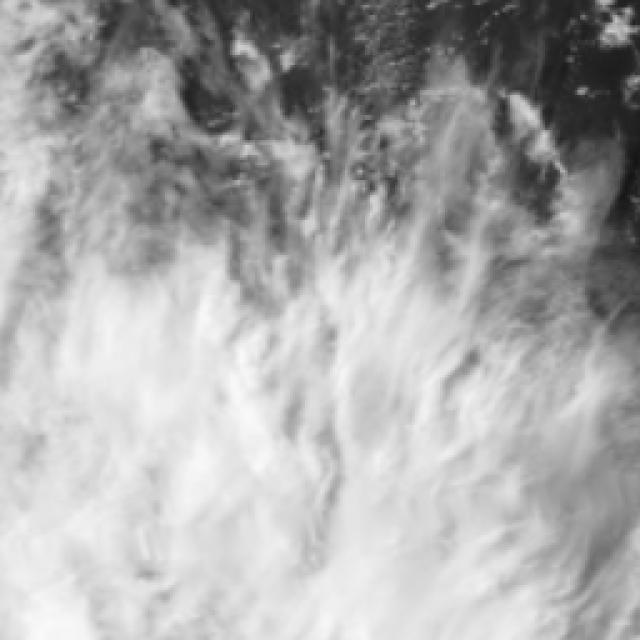CB: (69, 316, 256, 488), (241, 533, 516, 640)
